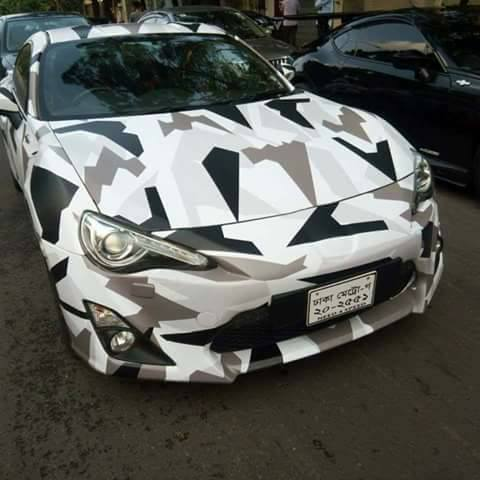registration_plate: (305, 270, 378, 328)
